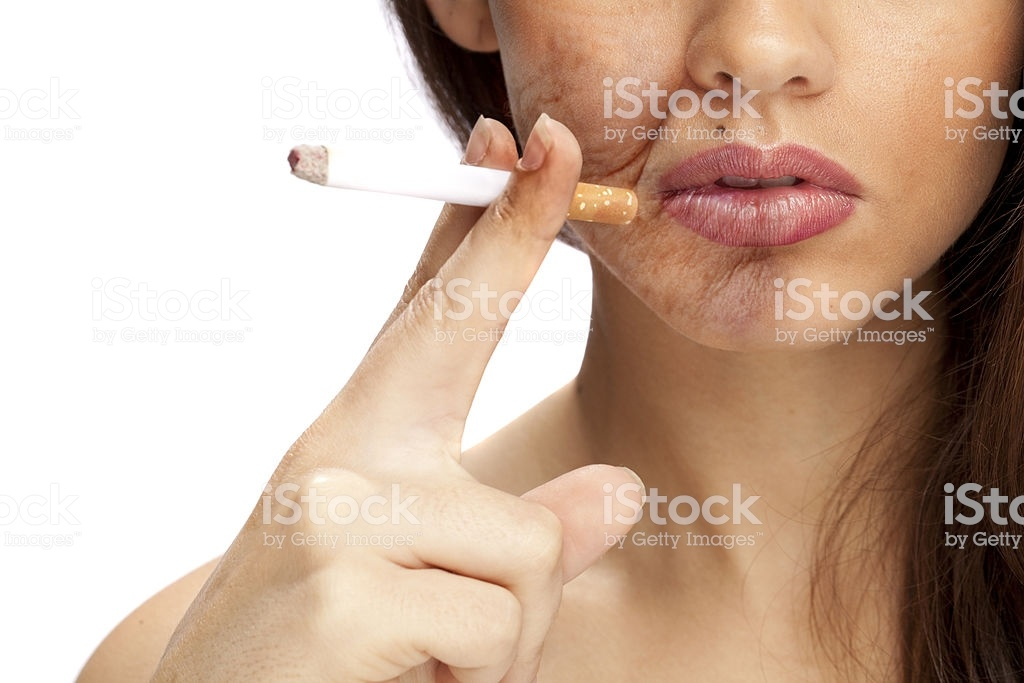sigaretta: (284, 143, 632, 221)
